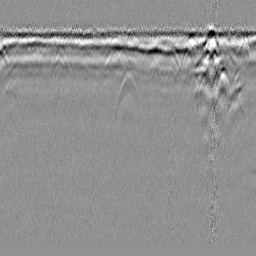cavity: (115, 70, 140, 108)
